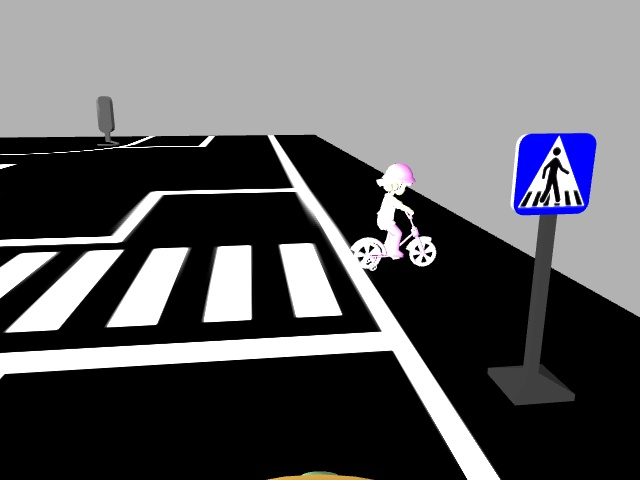Crosswalk: (503, 129, 599, 215)
Pedestrian: (335, 159, 447, 274)
